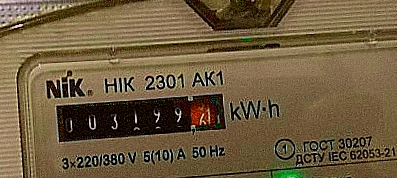0: (86, 112, 98, 131), (63, 114, 73, 133)
1: (129, 106, 139, 125)
3: (108, 111, 119, 131)
6: (196, 110, 206, 125)
9: (150, 104, 161, 125), (172, 105, 183, 123)
screen: (47, 84, 232, 149)
